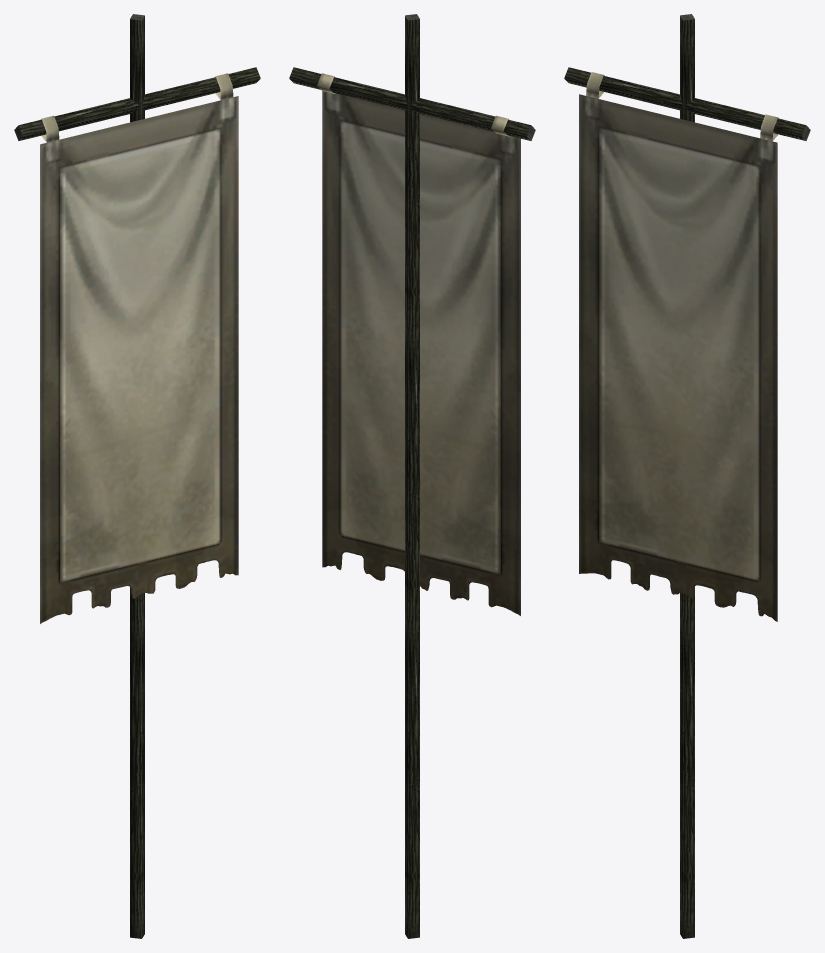
3 renders of one model, left to right at view 1: azimuth 30°, elevation 25°; view 2: azimuth 150°, elevation 25°; view 3: azimuth 330°, elevation 25°, orthographic.
Visible parts, largest first — view 1: element3ds_com_ca_thing_misc073_001; view 2: element3ds_com_ca_thing_misc073_001; view 3: element3ds_com_ca_thing_misc073_001.
Part boxes in pixels (left/top/right/bottom): element3ds_com_ca_thing_misc073_001: left=14, top=14, right=260, bottom=938; element3ds_com_ca_thing_misc073_001: left=289, top=14, right=535, bottom=938; element3ds_com_ca_thing_misc073_001: left=564, top=14, right=810, bottom=938.
Bounding box in the file's own units: 120 × 442 × 9.22.
1 material, 1 textured.
